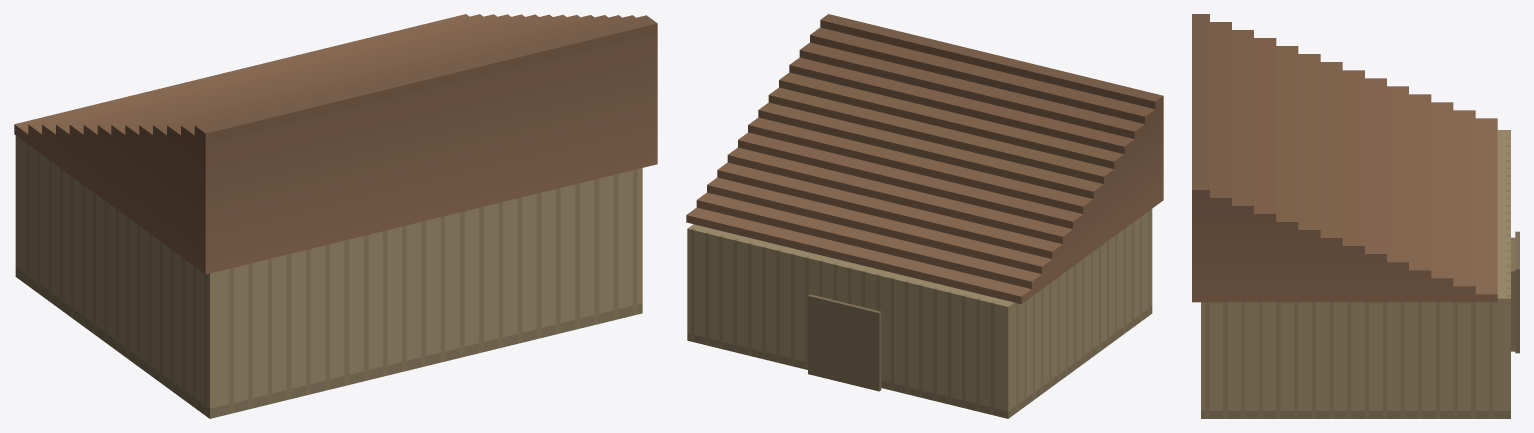
Rendered from establo_comunal_02.glb.
3 views of the same model, side by side, from view 1: azimuth 30°, elevation 25°; view 2: azimuth 150°, elevation 25°; view 3: azimuth 270°, elevation 25° (orthographic). The views are drawn at different scales.
Visible parts, largest first — view 1: establo_comunal_02; view 2: establo_comunal_02; view 3: establo_comunal_02.
Part boxes in pixels (left/top/right/bottom): establo_comunal_02: left=14, top=14, right=657, bottom=418; establo_comunal_02: left=686, top=14, right=1163, bottom=418; establo_comunal_02: left=1192, top=14, right=1519, bottom=418.
Size of the model in its own units: 9.4 by 5.8 by 7.4.
